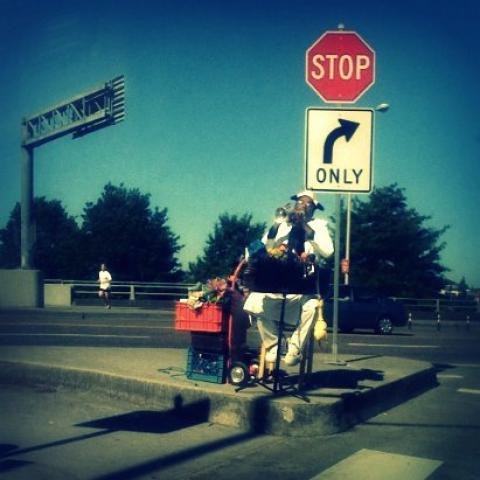car: (319, 282, 417, 337)
